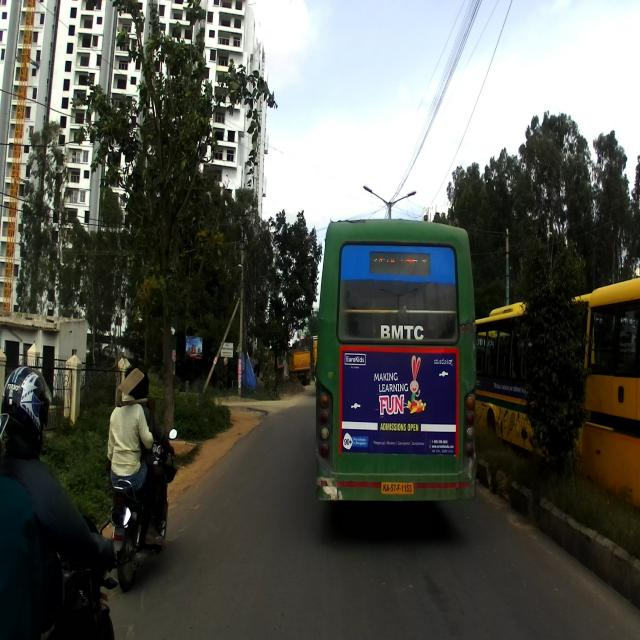bus: (314, 215, 476, 511)
mini-bus: (471, 288, 591, 462)
motorcycle: (110, 428, 178, 592)
